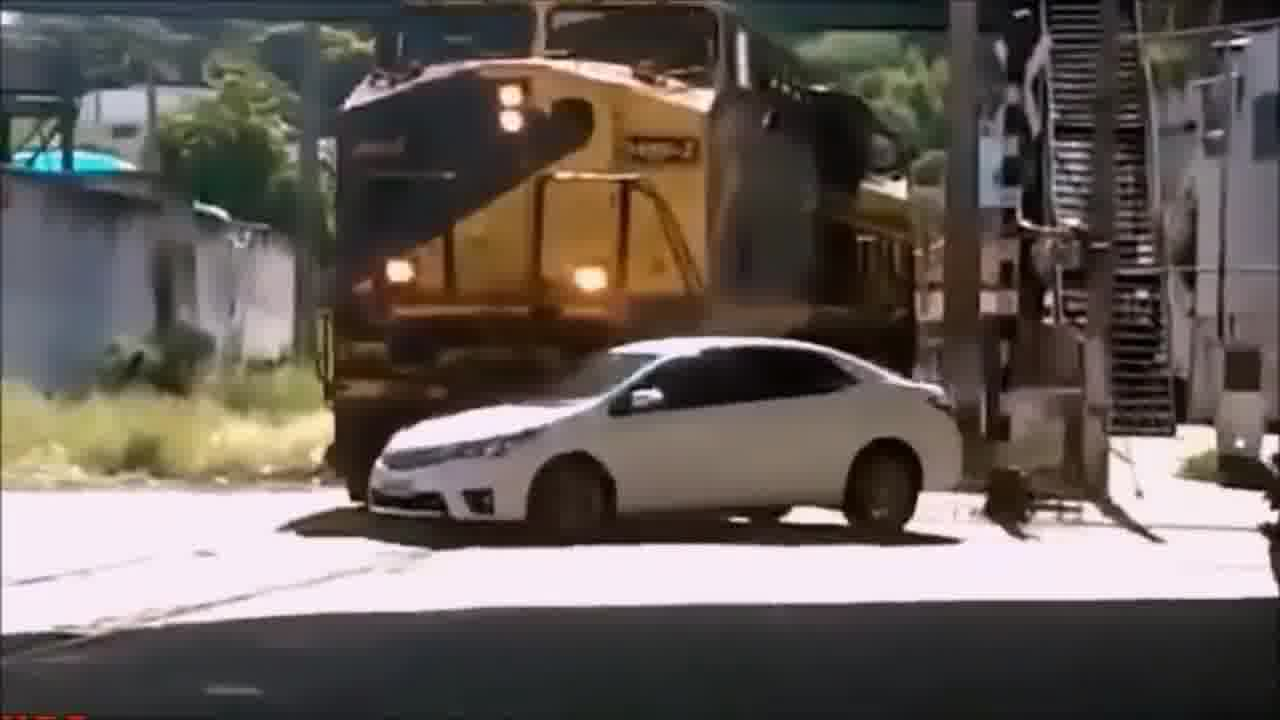crossing railway track: (358, 331, 989, 549)
